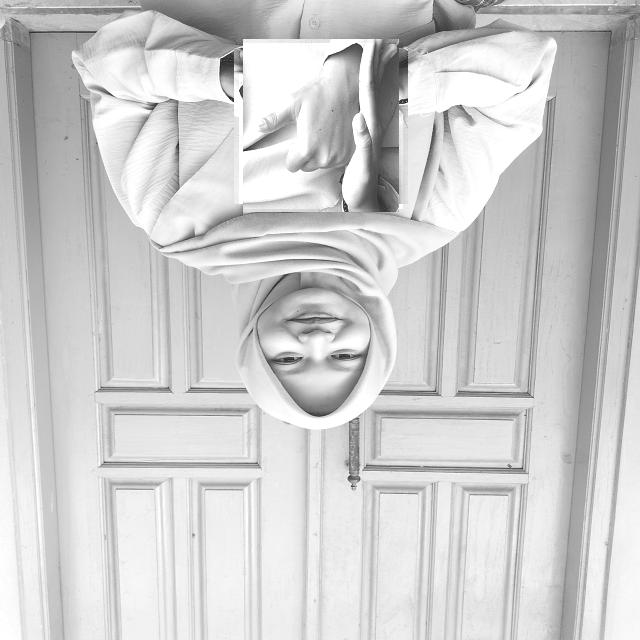cantik: (239, 43, 403, 209)
